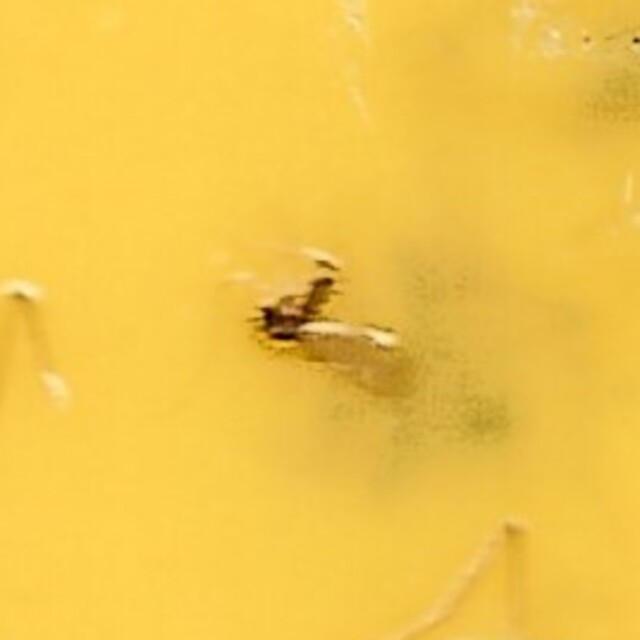Nematocera: (239, 248, 401, 392)
